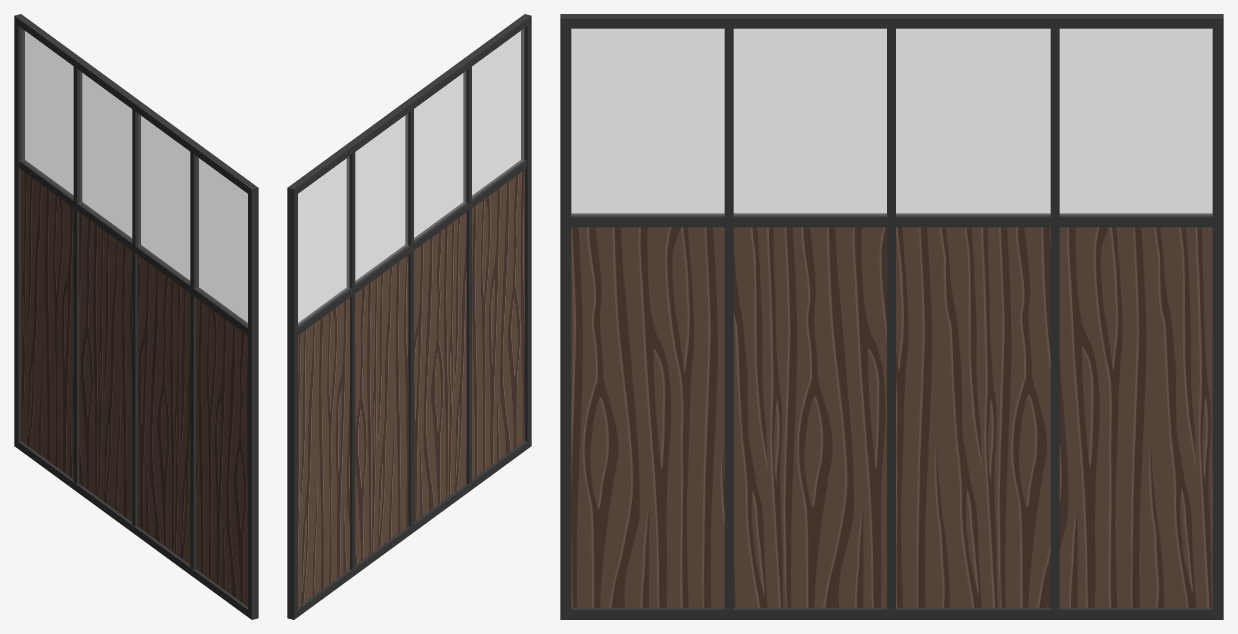
The model's file is Seperator01.fbx.
The picture shows the model from 3 angles, left to right: view 1: azimuth 30°, elevation 25°; view 2: azimuth 150°, elevation 25°; view 3: azimuth 270°, elevation 25°; orthographic projection. The views are drawn at different scales.
Parts seen in each view (by area): view 1: Seperator01; view 2: Seperator01; view 3: Seperator01.
Boxes of the visible parts, x1,y1,x2,y2 form: Seperator01: (14, 14, 258, 619); Seperator01: (287, 14, 531, 619); Seperator01: (560, 14, 1223, 619).
Size of the model in its own units: 0.0501 by 3 by 3.
